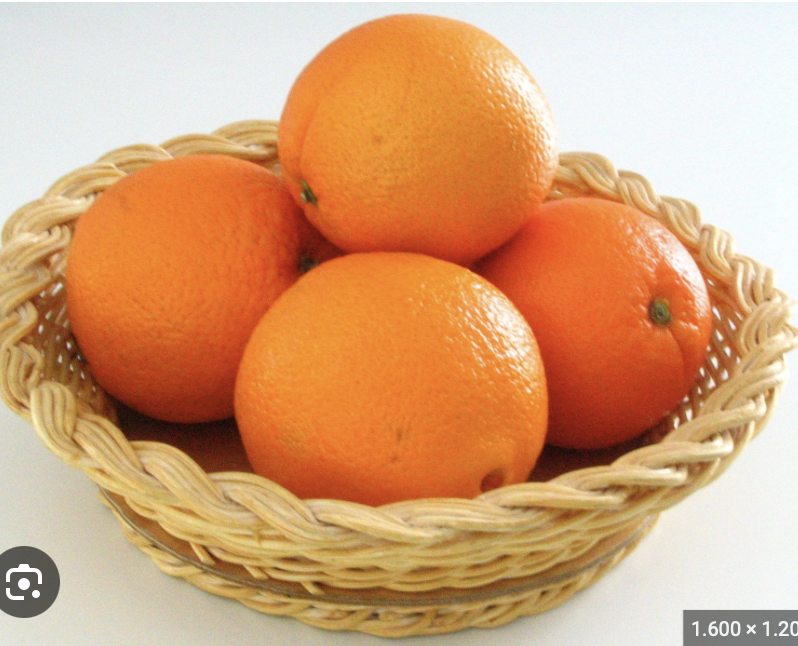orange: (225, 224, 571, 545), (32, 148, 334, 416), (259, 0, 558, 245), (462, 186, 736, 412)
